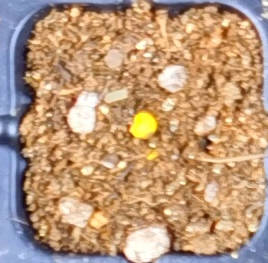pepper seed: (48, 40, 206, 180)
